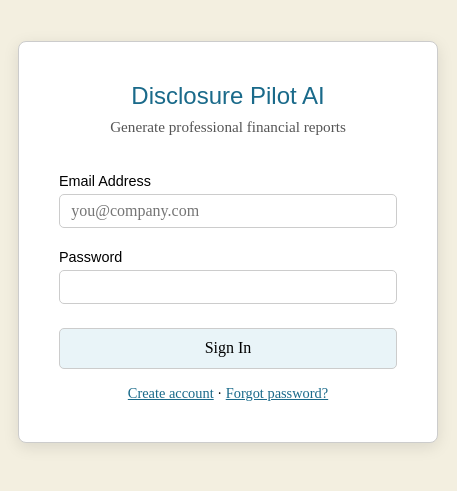
Test: LoginPage › shows error message on failed login
The image size is (457, 491).
In the field labelled "Email Address": (228, 211) [59, 194, 397, 228], type "bad@example.com"
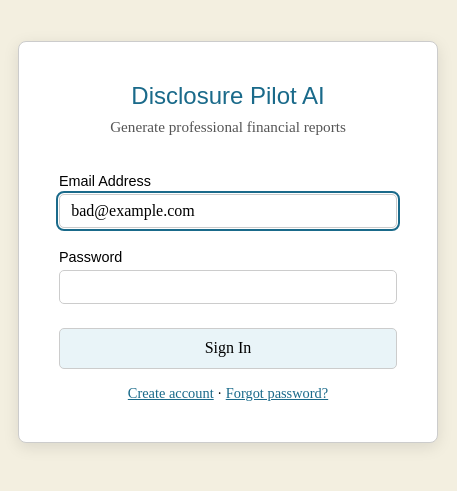
In the password field labelled "Password": (228, 287) [59, 270, 397, 304], type "wrong"
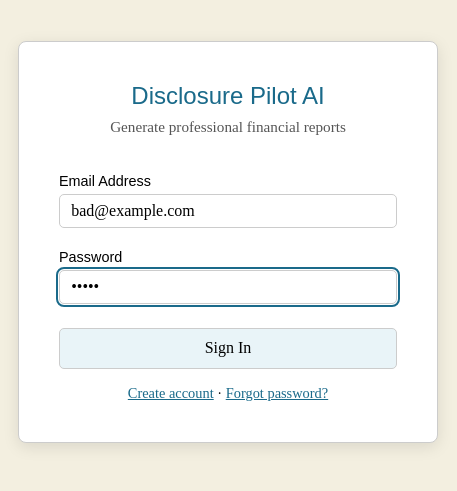
Click the button "Sign In": (228, 348) [59, 328, 397, 369]
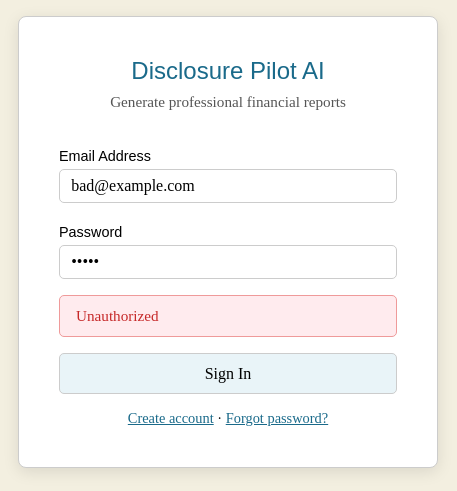
Expected: the text "Unauthorized" is shown, [59, 295, 397, 337]
